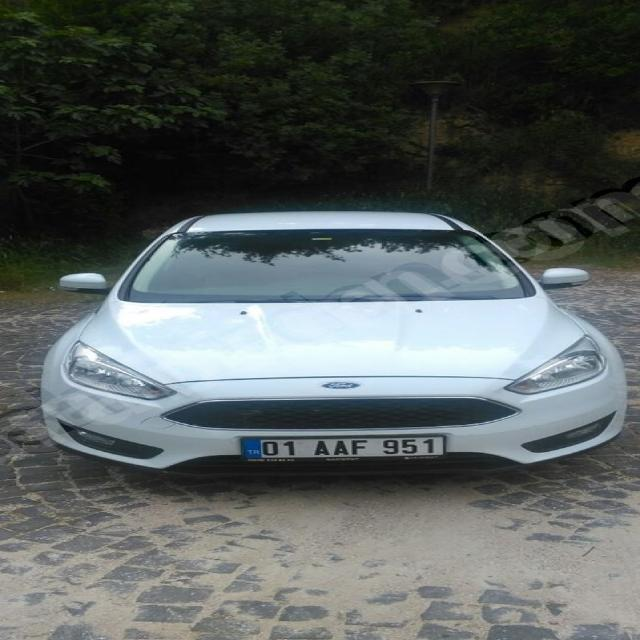license_plate: (243, 436, 445, 457)
